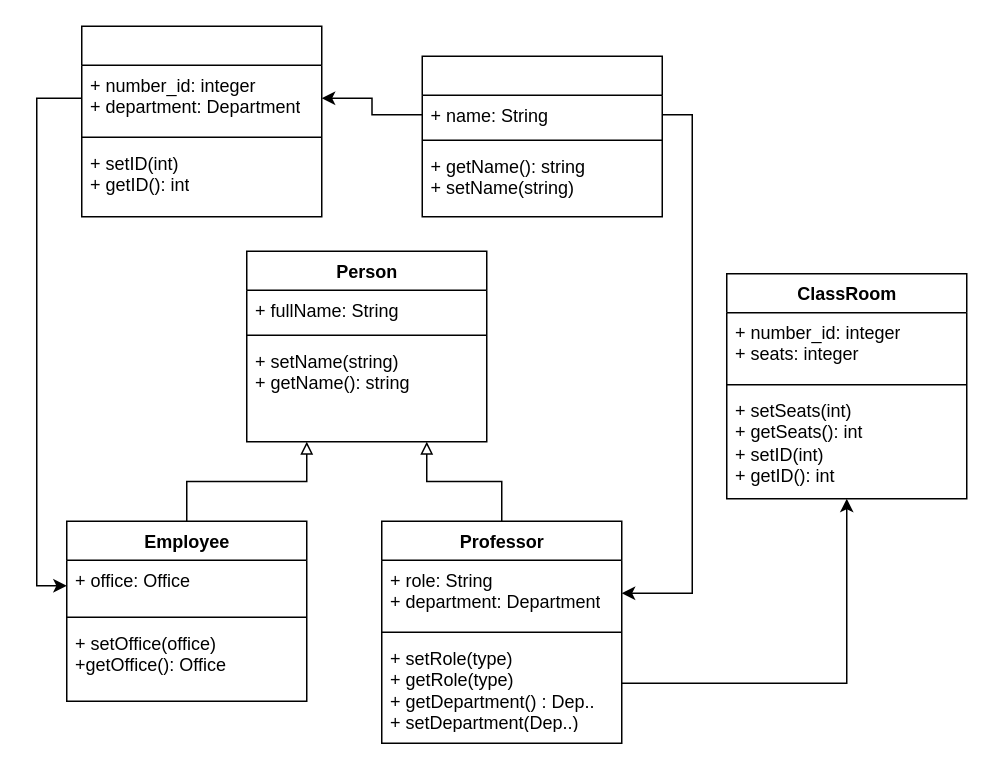
This 993x770 diagram has some shape labels left out. The shapes that lost their labels are listed below. From the top down, each one's box as (x1, y1, x2, y2) in pixels, then its label:
(80, 25, 322, 217): Office
(421, 55, 662, 217): Department
